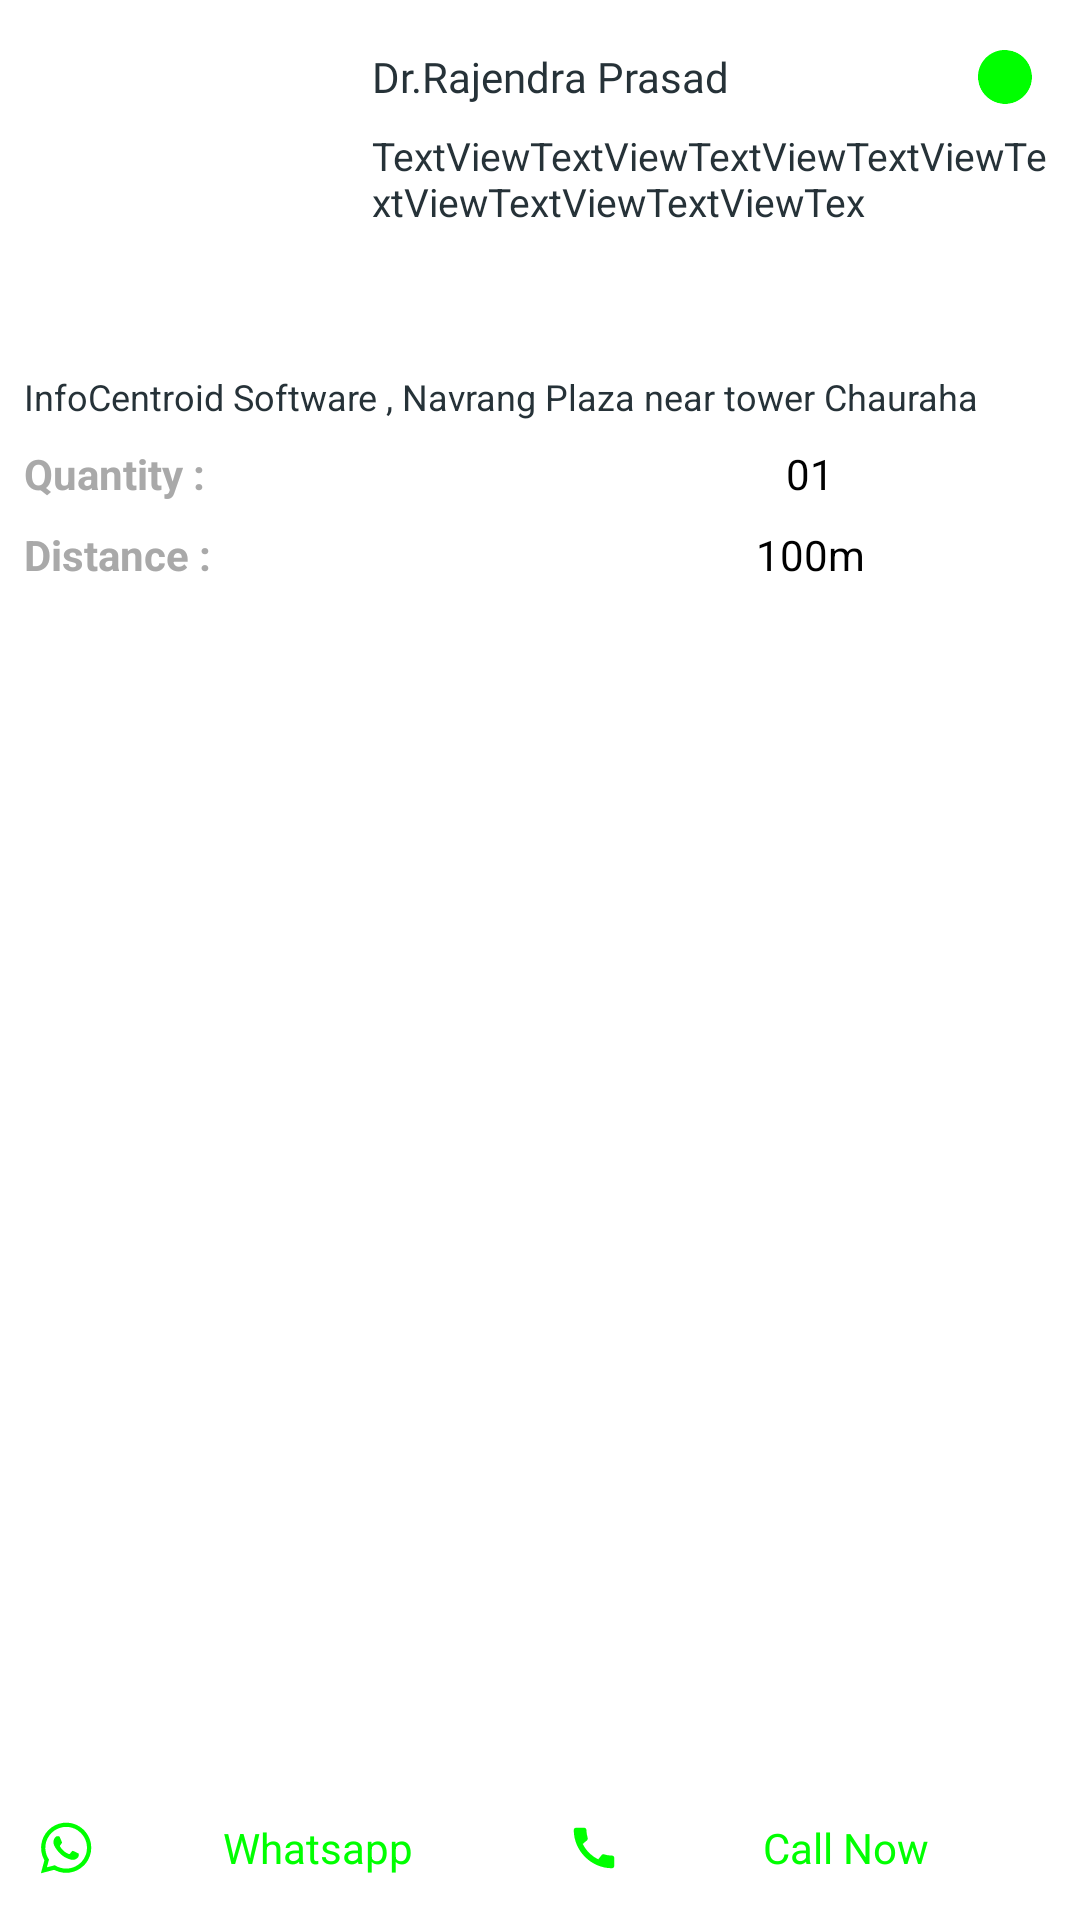

Icon click points for this 1080×1920 phone screenshot, format [x,y]:
online: [1005,77]
